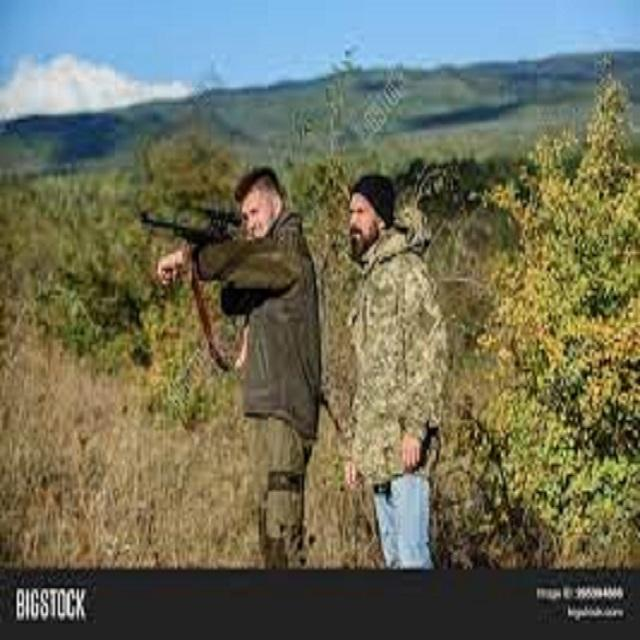gun: (117, 188, 301, 295)
poacher: (99, 136, 353, 564), (275, 150, 509, 577)
